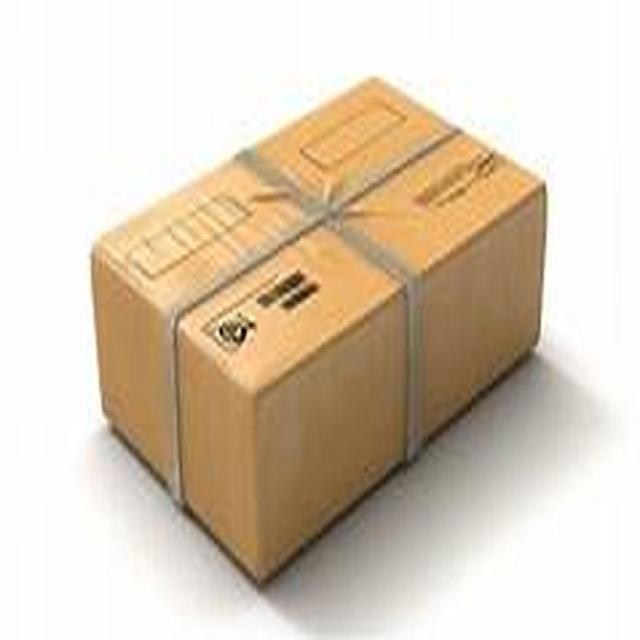box: (80, 83, 558, 573)
